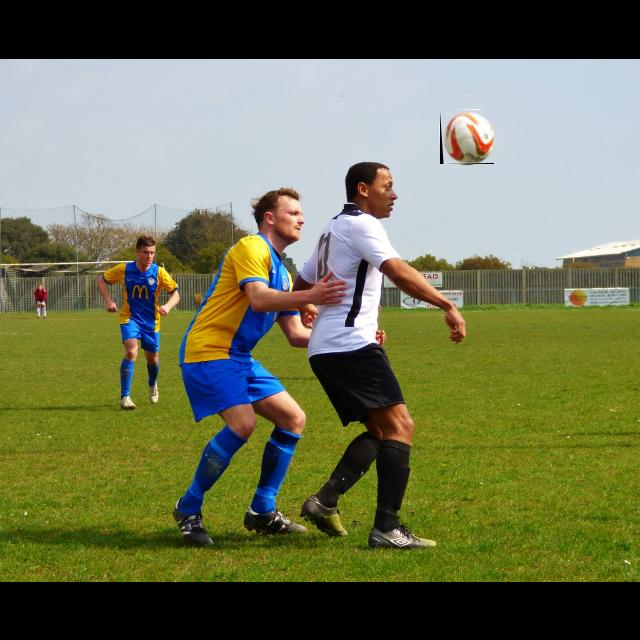Football: (440, 110, 494, 164)
